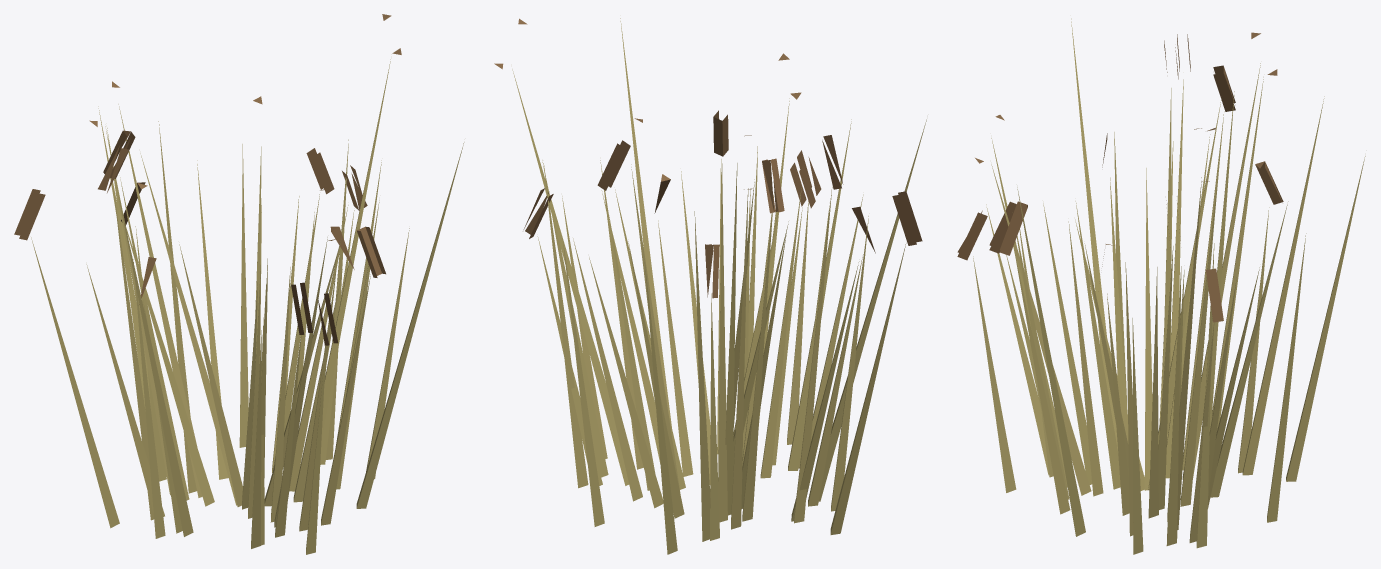
The model's file is nature_reed_b_lod1.glb.
3 views of the same model, side by side, from view 1: azimuth 30°, elevation 25°; view 2: azimuth 150°, elevation 25°; view 3: azimuth 270°, elevation 25° (orthographic). The views are drawn at different scales.
Visible parts, largest first — view 1: nature_reed_b_lod1; view 2: nature_reed_b_lod1; view 3: nature_reed_b_lod1.
Part boxes in pixels (box(x1,y1,x2,y2)): nature_reed_b_lod1: box(14, 14, 464, 554); nature_reed_b_lod1: box(494, 18, 926, 554); nature_reed_b_lod1: box(957, 18, 1365, 554).
Size of the model in its own units: 3.13 by 3.26 by 2.69.
